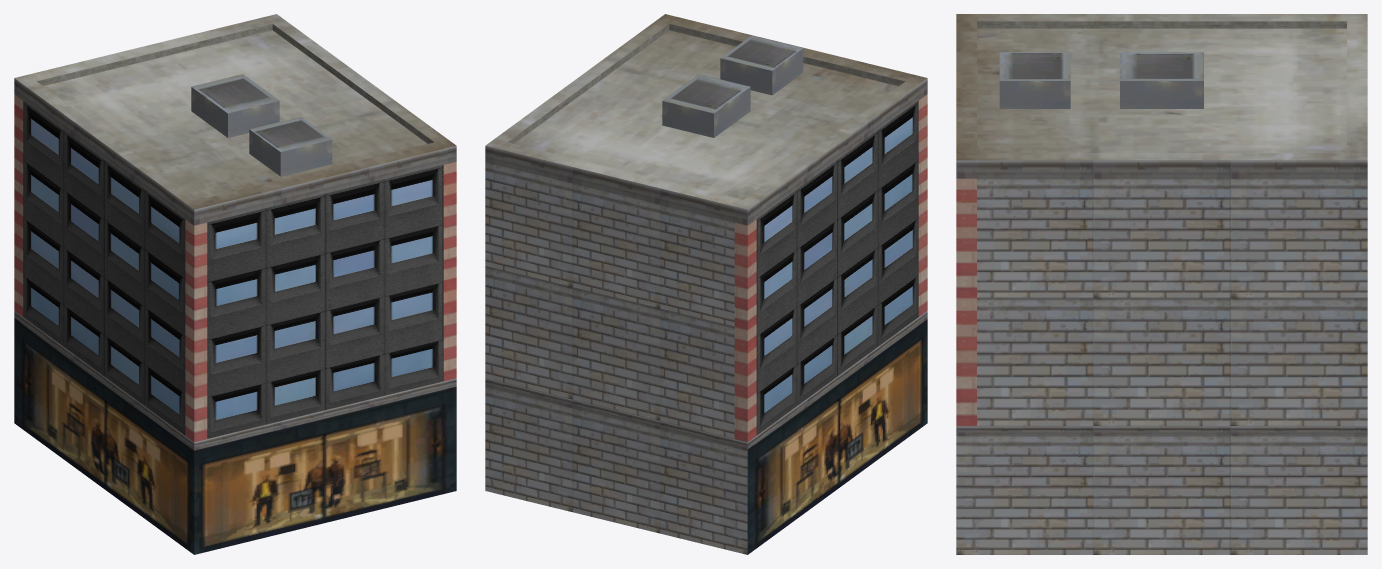
File: house26_14.fbx
3 views of the same model, side by side, from view 1: azimuth 30°, elevation 25°; view 2: azimuth 150°, elevation 25°; view 3: azimuth 270°, elevation 25° (orthographic). The views are drawn at different scales.
Visible parts, largest first — view 1: house26_14; view 2: house26_14; view 3: house26_14.
Boxes of the visible parts, x1,y1,x2,y2 form: house26_14: [14, 14, 456, 554]; house26_14: [485, 14, 927, 554]; house26_14: [956, 14, 1367, 554].
Bounding box in the file's own units: 12 × 15.87 × 14.25.
